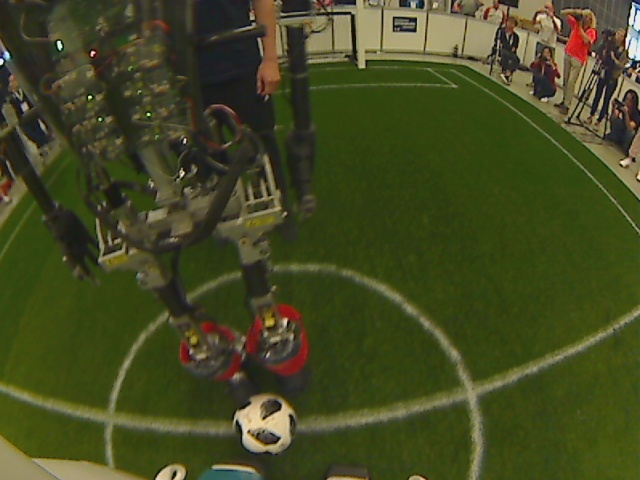ball: (228, 391, 302, 460)
